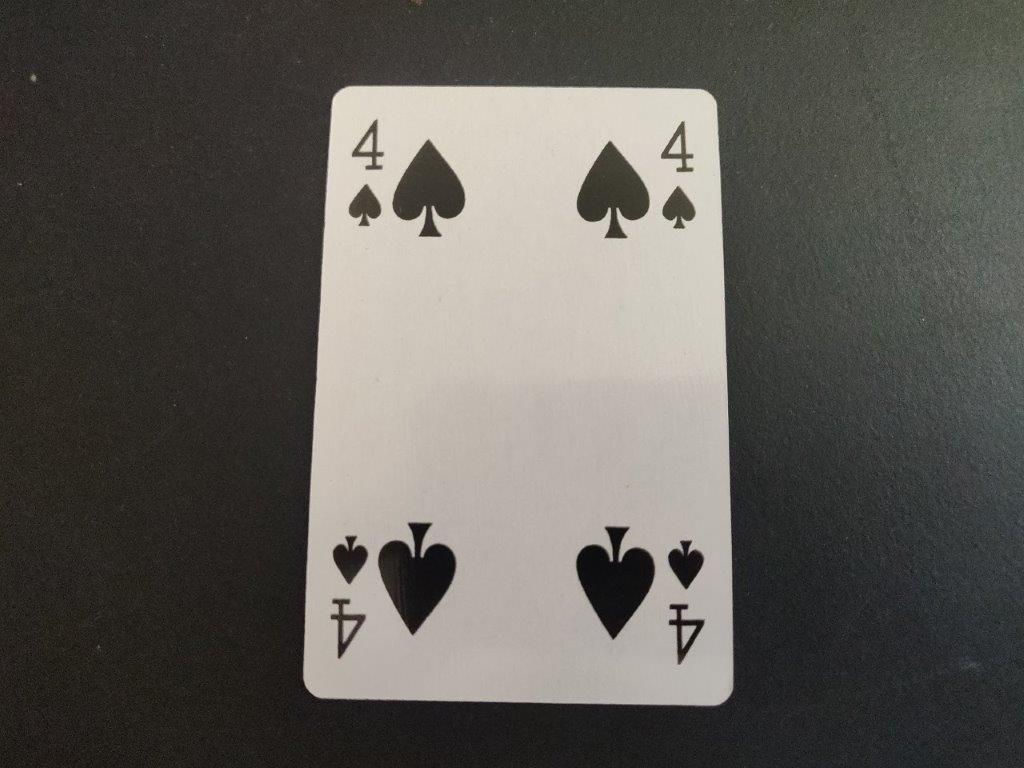4S: (656, 120, 703, 239), (347, 116, 390, 236)
